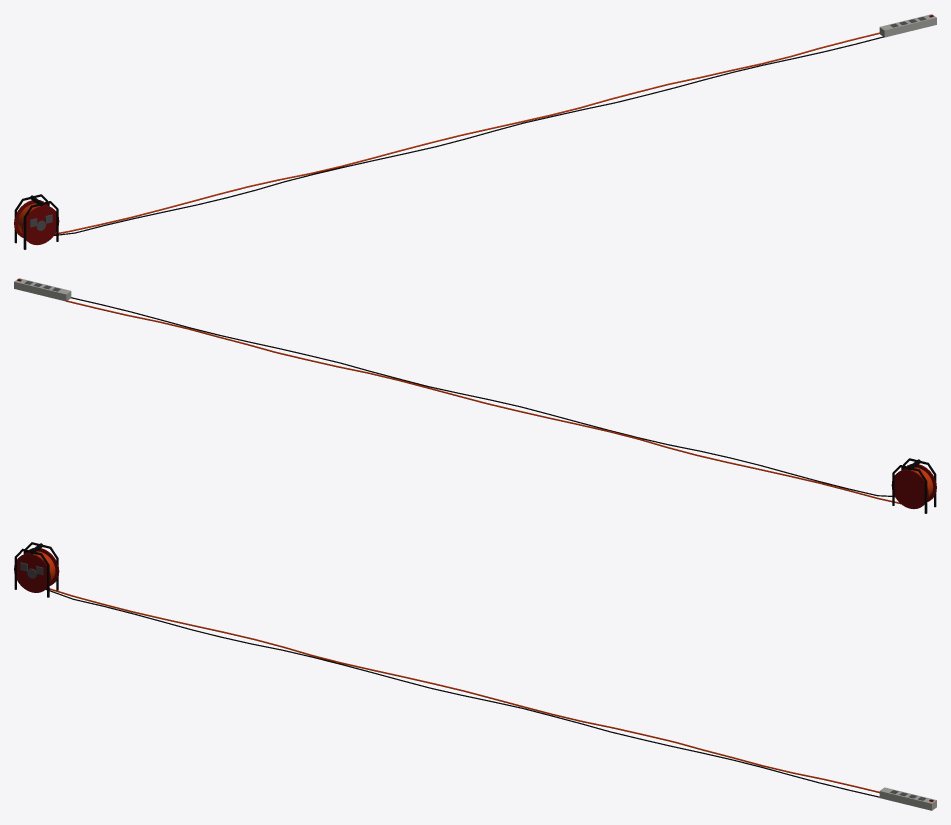
File: extension-reel.glb
3 views of the same model, one above another, from view 1: azimuth 30°, elevation 25°; view 2: azimuth 150°, elevation 25°; view 3: azimuth 330°, elevation 25° (orthographic).
Visible parts, largest first — view 1: extension-reel; view 2: extension-reel; view 3: extension-reel.
Boxes of the visible parts, x1=… form: extension-reel: x1=14, y1=14, x2=936, y2=249; extension-reel: x1=14, y1=278, x2=936, y2=513; extension-reel: x1=14, y1=542, x2=936, y2=810.
Size of the model in its own units: 5.94 by 0.267 by 0.116.
